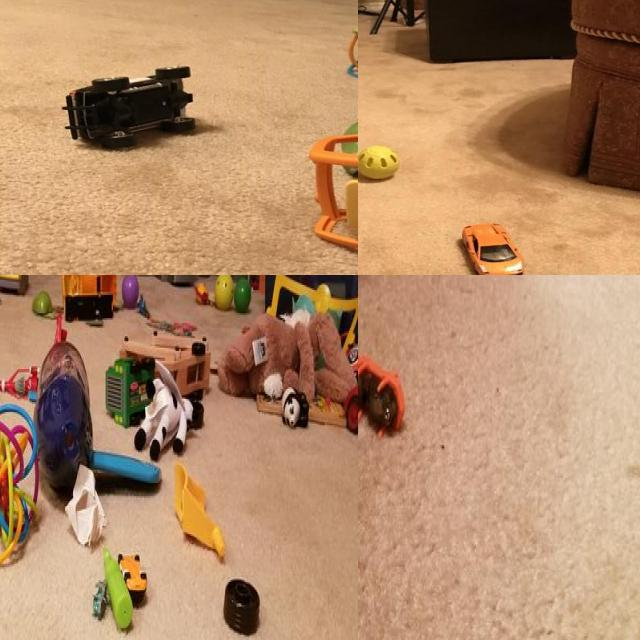toy: (67, 54, 201, 147), (301, 92, 358, 261), (45, 326, 98, 487), (103, 334, 215, 406), (0, 405, 46, 563), (135, 359, 202, 459), (171, 461, 228, 563), (358, 347, 409, 446), (457, 221, 524, 275), (91, 442, 163, 492), (217, 570, 263, 640), (100, 544, 136, 633), (59, 275, 122, 322), (116, 544, 148, 607), (146, 308, 200, 343), (88, 572, 119, 631), (358, 142, 402, 180), (0, 364, 41, 402), (337, 12, 358, 82), (283, 383, 312, 431), (214, 275, 234, 318), (233, 275, 253, 311), (0, 275, 31, 297), (122, 275, 141, 308), (32, 291, 56, 313), (193, 275, 210, 305)
